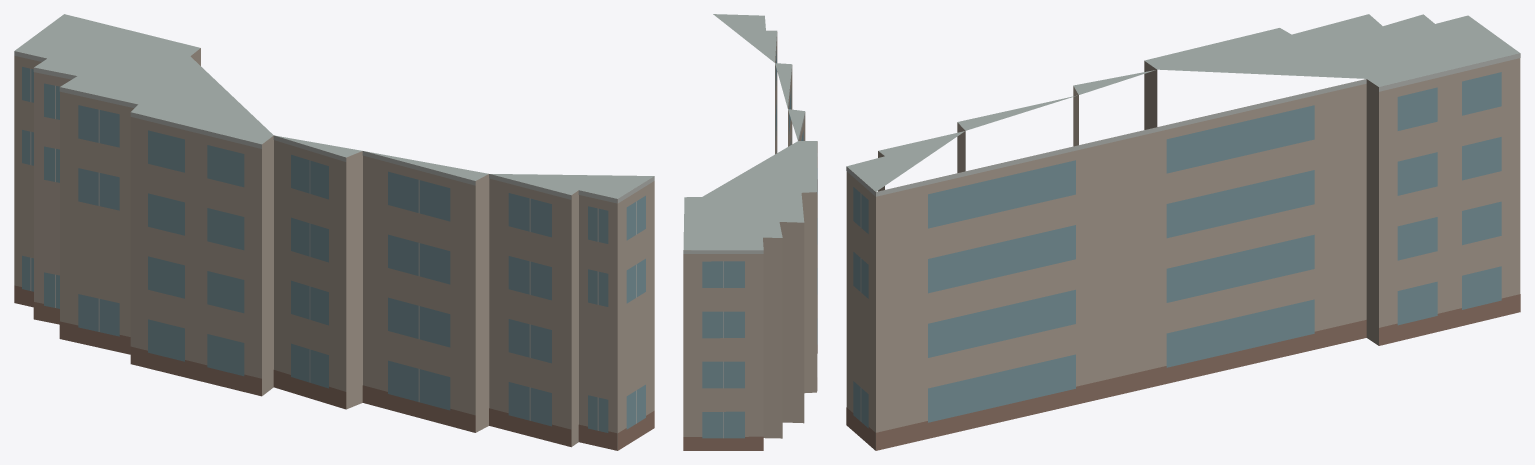
File: survey-upis-32770715.glb
The picture shows the model from 3 angles, left to right: view 1: azimuth 30°, elevation 25°; view 2: azimuth 150°, elevation 25°; view 3: azimuth 270°, elevation 25°; orthographic projection. The views are drawn at different scales.
Parts seen in each view (by area): view 1: survey-upis-32770715.tmp; view 2: survey-upis-32770715.tmp; view 3: survey-upis-32770715.tmp.
Part boxes in pixels (x1=…): survey-upis-32770715.tmp: x1=14, y1=14, x2=654, y2=450; survey-upis-32770715.tmp: x1=683, y1=14, x2=817, y2=450; survey-upis-32770715.tmp: x1=846, y1=14, x2=1520, y2=450.
Size of the model in its own units: 19.47 by 13.2 by 31.15.
